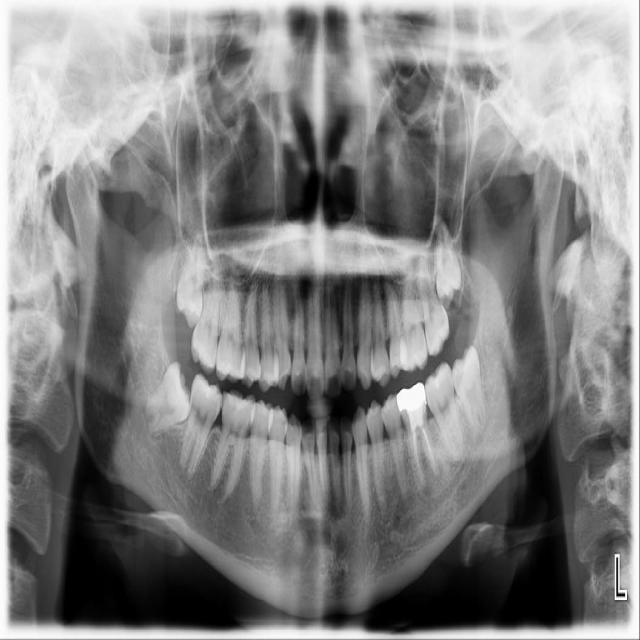Crown: (396, 381, 427, 417)
Filling: (410, 407, 424, 432)
Periapical lesion: (417, 468, 435, 503), (428, 457, 444, 484)
Root Canal Treatment: (414, 431, 423, 481), (421, 422, 432, 462)
impacted tooth: (140, 363, 192, 437), (450, 350, 487, 438), (431, 212, 465, 298), (174, 234, 204, 326)
